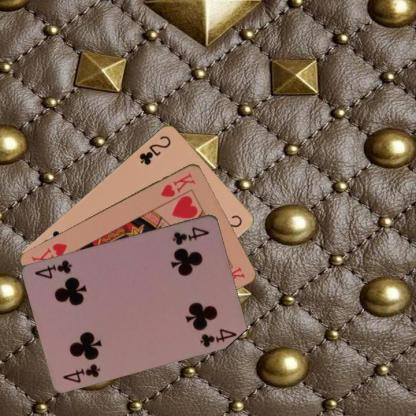2c: (136, 132, 172, 166)
4c: (60, 361, 102, 384), (170, 224, 211, 246)
Kh: (158, 170, 197, 198)
